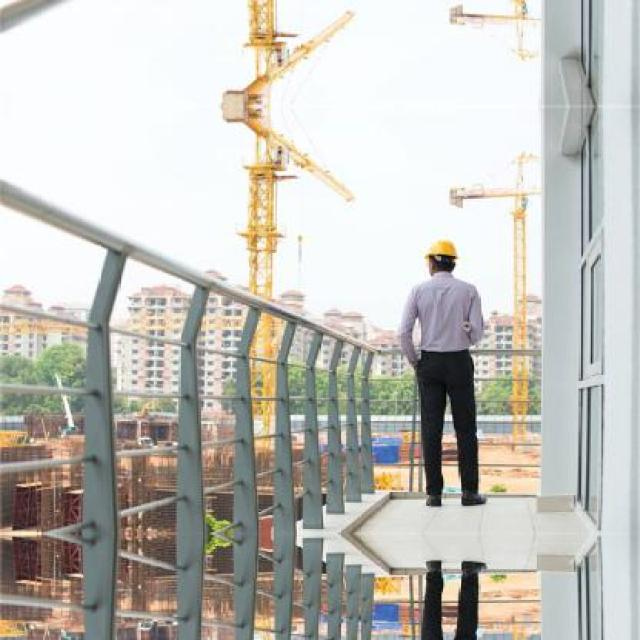helmet: (423, 236, 457, 278)
